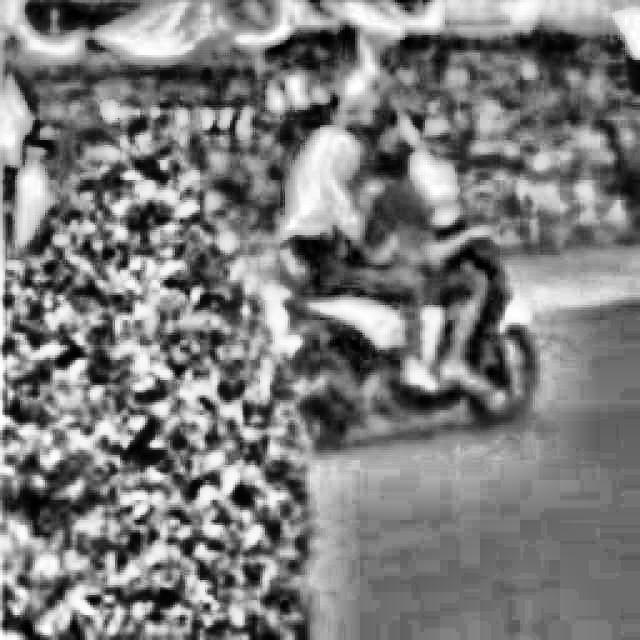motorcycle: (233, 210, 581, 453)
